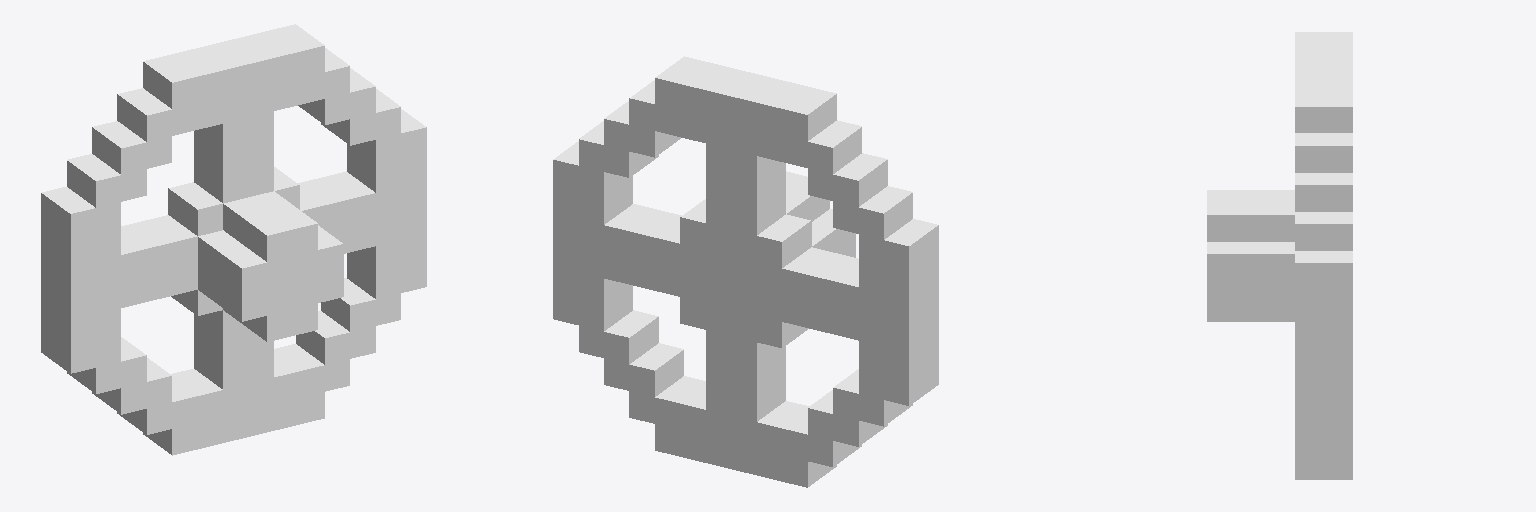
Rendered from Volante.obj.
3 views of the same model, side by side, from view 1: azimuth 30°, elevation 25°; view 2: azimuth 150°, elevation 25°; view 3: azimuth 270°, elevation 25° (orthographic).
Parts seen in each view (by area): view 1: object 1; view 2: object 1; view 3: object 1.
Boxes of the visible parts, x1,y1,x2,y2 form: object 1: [41, 24, 426, 455]; object 1: [553, 56, 938, 487]; object 1: [1207, 32, 1352, 479].
Bounding box in the file's own units: 1.4 × 1.4 × 0.5.